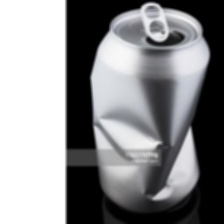can: (79, 0, 213, 218)
